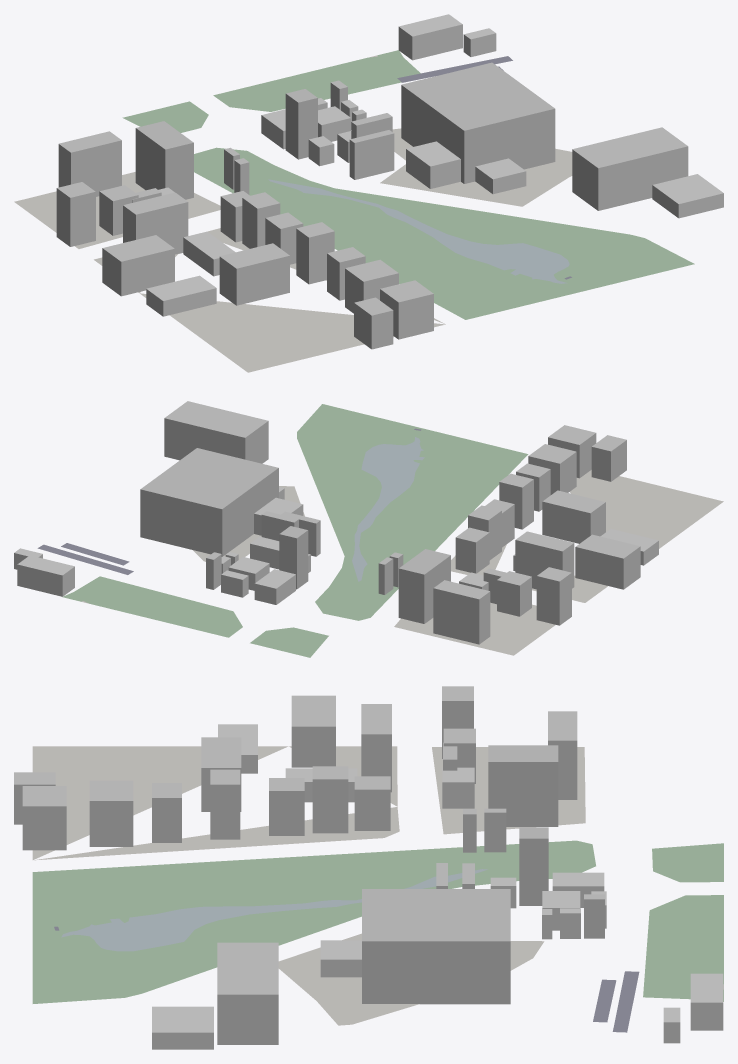
The model's file is 129_111_mid.glb.
3 views of the same model, one above another, from view 1: azimuth 30°, elevation 25°; view 2: azimuth 150°, elevation 25°; view 3: azimuth 270°, elevation 25° (orthographic). The views are drawn at different scales.
Size of the model in its own units: 535 by 53.62 by 514.
